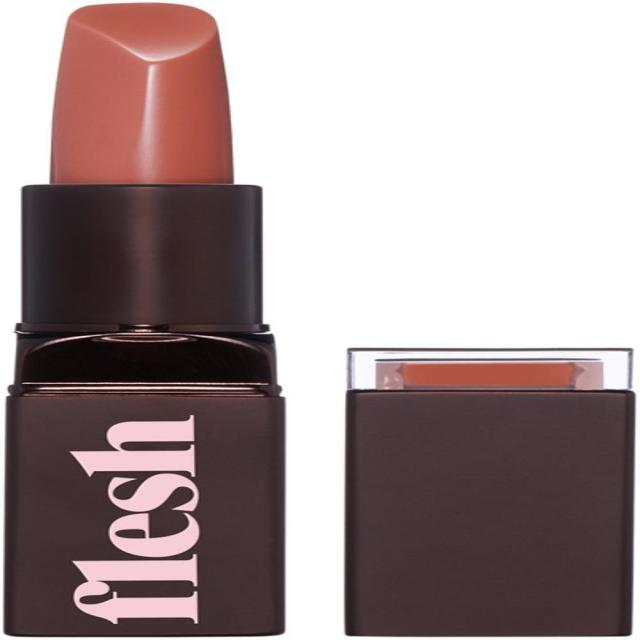lipstick: (1, 0, 296, 640)
